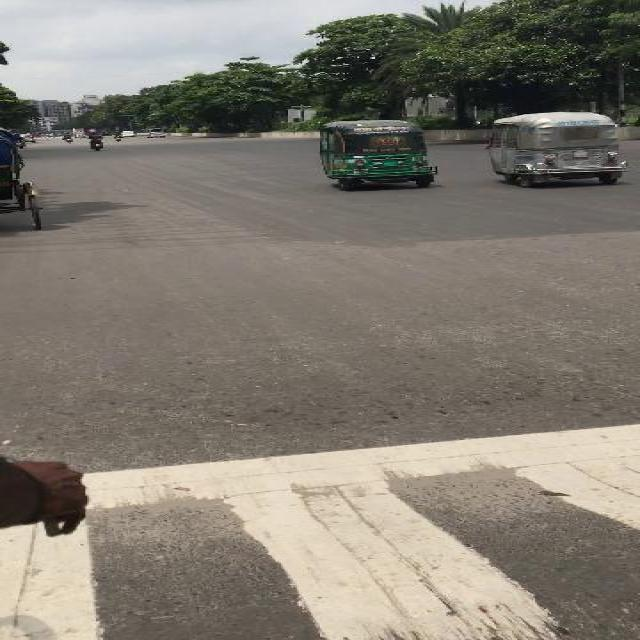car: (122, 130, 134, 136), (72, 132, 84, 138)
minivan: (145, 128, 164, 138)
motorbike: (87, 131, 105, 151), (12, 134, 24, 148), (110, 130, 121, 140), (61, 133, 70, 143)
rickshaw: (0, 126, 20, 230)
three wheelers -CNG-: (481, 110, 628, 186), (316, 118, 441, 192)
